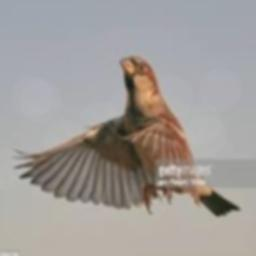Sparrow: (11, 55, 239, 217)
